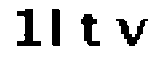1: (14, 6, 46, 50)
I: (50, 4, 64, 49)
t: (81, 10, 104, 52)
v: (115, 15, 150, 49)
